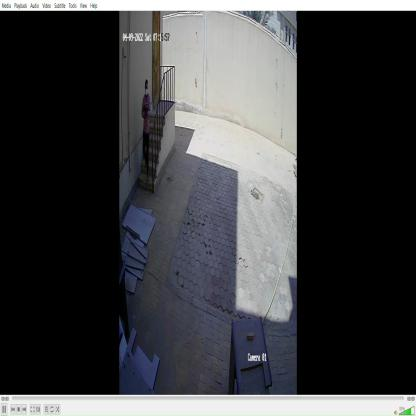handgun: (137, 103, 155, 122)
